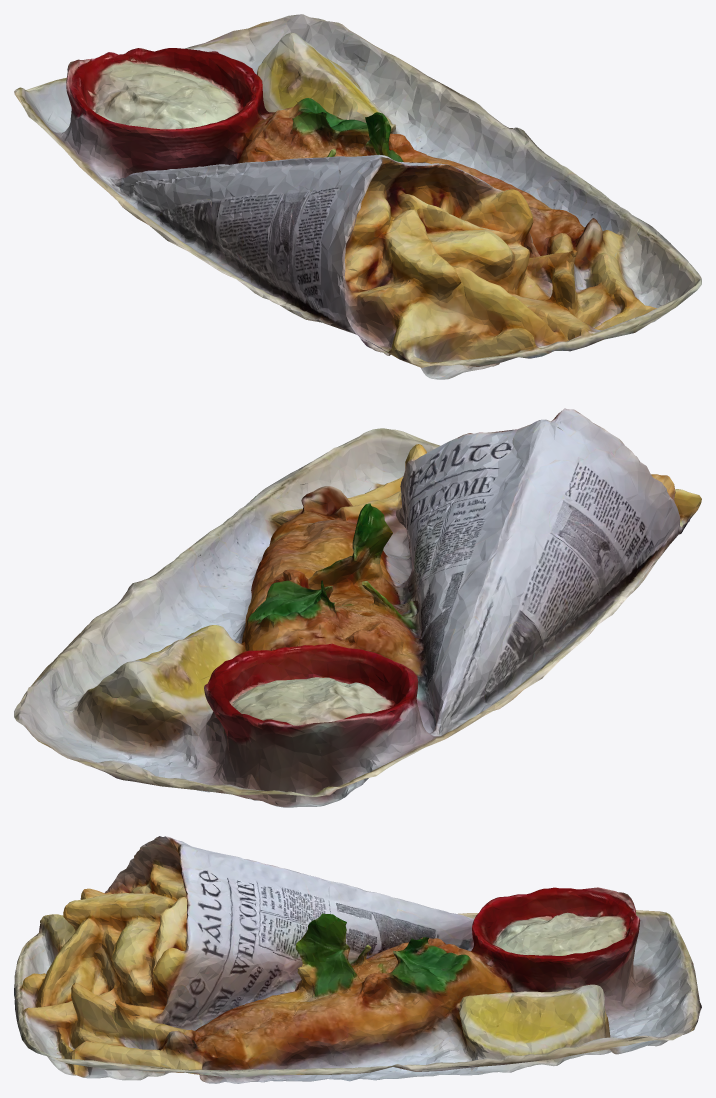
3 renders of one model, top to bottom at view 1: azimuth 30°, elevation 25°; view 2: azimuth 150°, elevation 25°; view 3: azimuth 270°, elevation 25°, orthographic. The views are drawn at different scales.
Bounding box in the file's own units: 0.6357 × 0.2838 × 1.17.
1 material, 1 textured.
